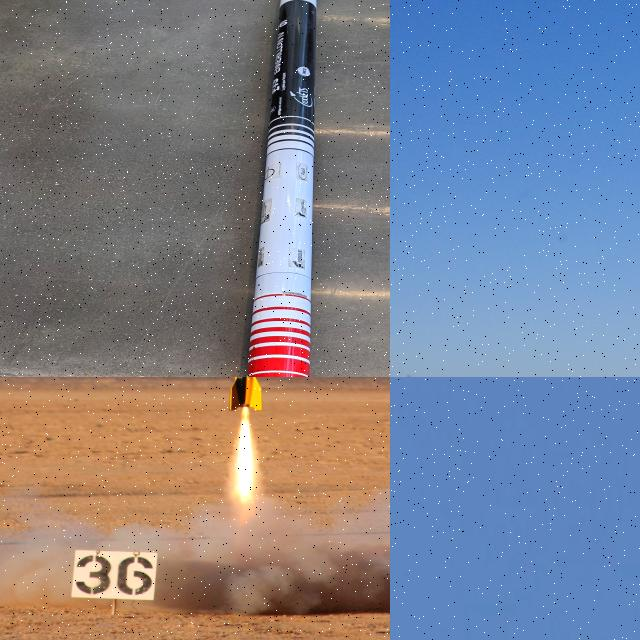Rocket: (246, 0, 317, 377), (226, 377, 264, 412)
